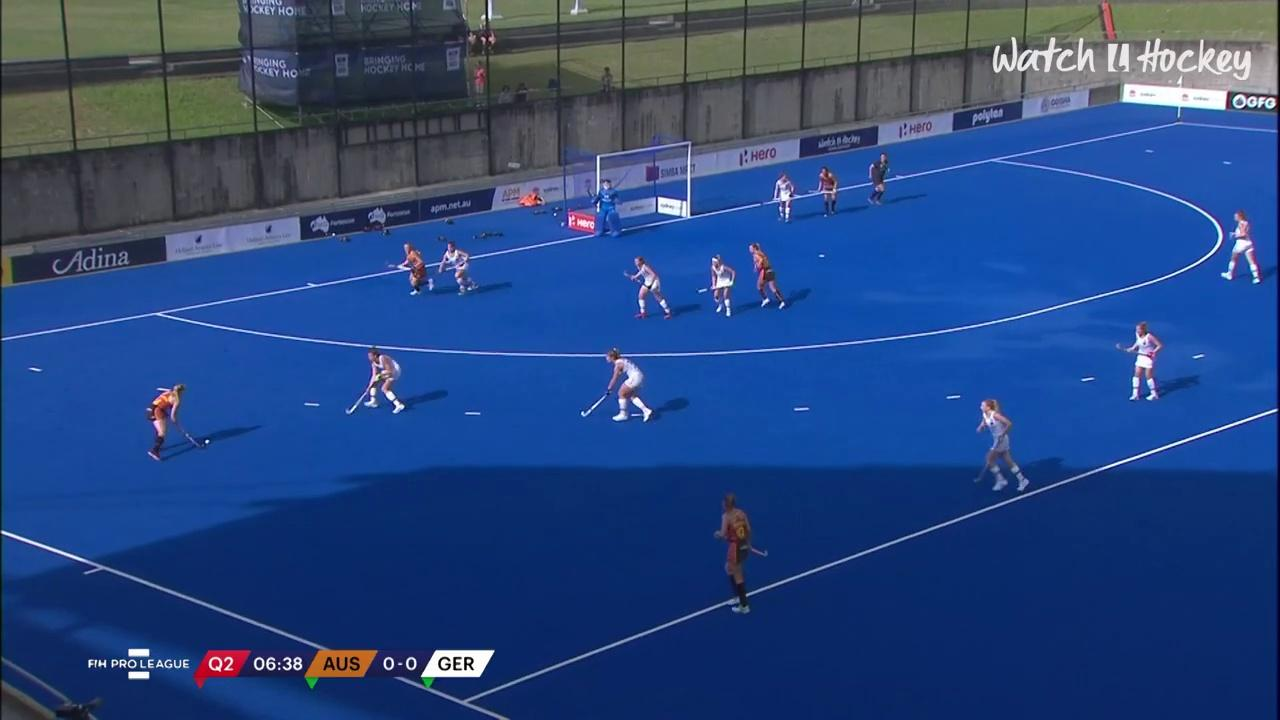ball: (197, 434, 216, 450)
